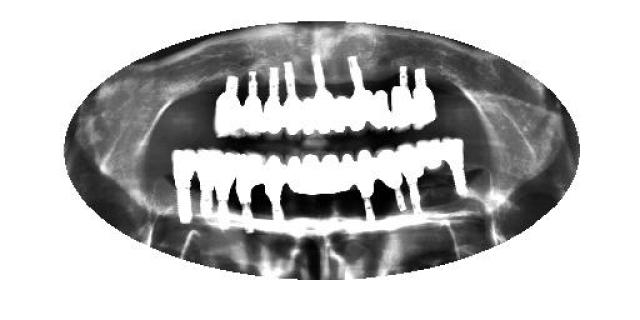Fillings: (415, 138, 444, 174), (300, 150, 321, 199), (321, 150, 341, 199), (370, 88, 390, 132), (286, 150, 302, 196), (333, 92, 348, 136), (341, 148, 355, 194), (301, 94, 315, 138)
Implant: (373, 146, 408, 214), (395, 143, 425, 215), (170, 148, 198, 224), (310, 52, 334, 138), (348, 52, 372, 136), (214, 74, 244, 138), (235, 150, 261, 221), (440, 136, 469, 196), (215, 149, 239, 221), (354, 148, 376, 226), (412, 66, 438, 132), (262, 152, 286, 222), (263, 66, 285, 142), (241, 69, 264, 139), (284, 61, 302, 142), (390, 65, 411, 134), (196, 146, 215, 219)
